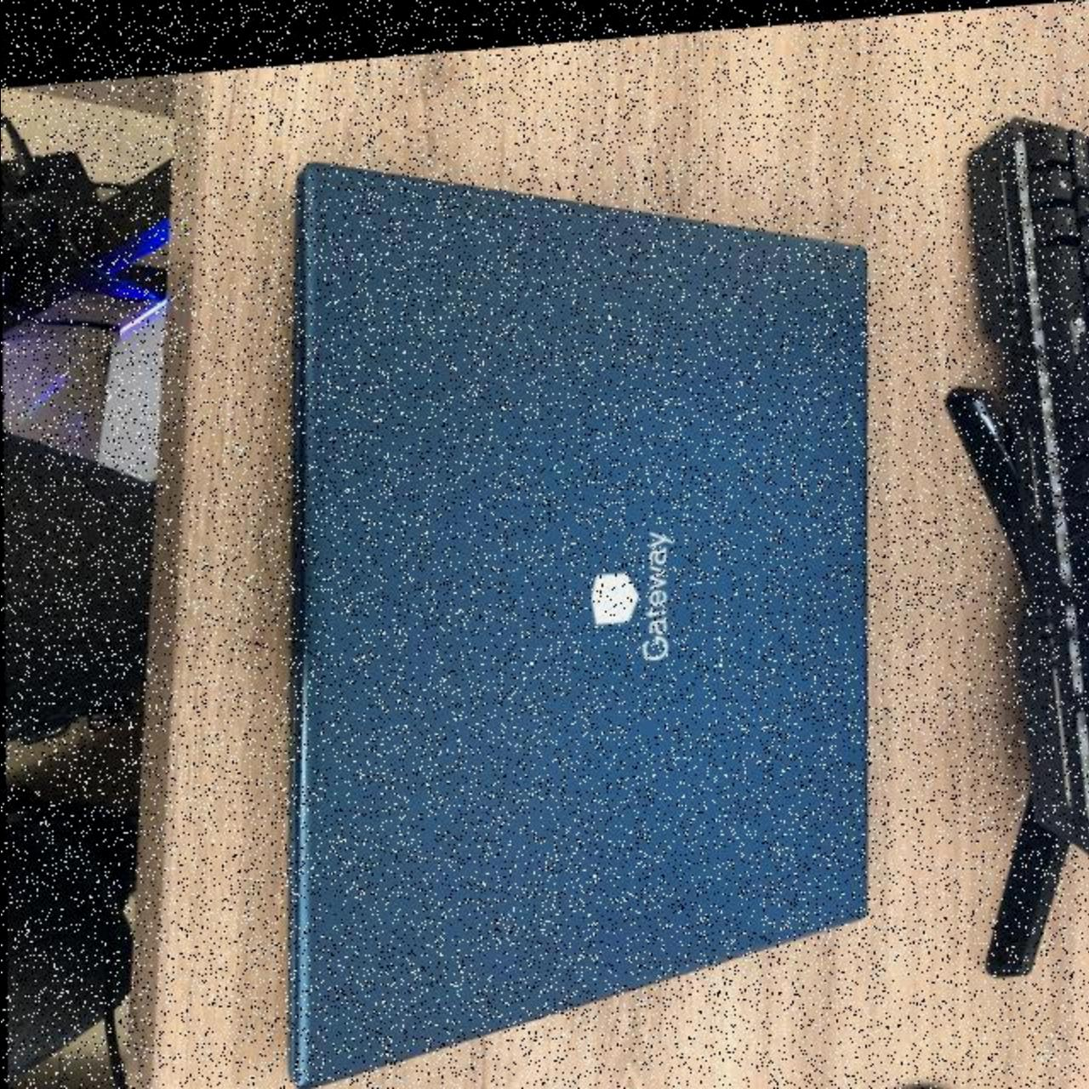laptop: (271, 111, 880, 1080)
